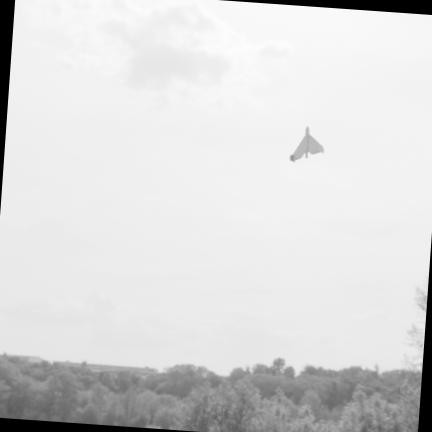Shahed: (290, 126, 323, 161)
